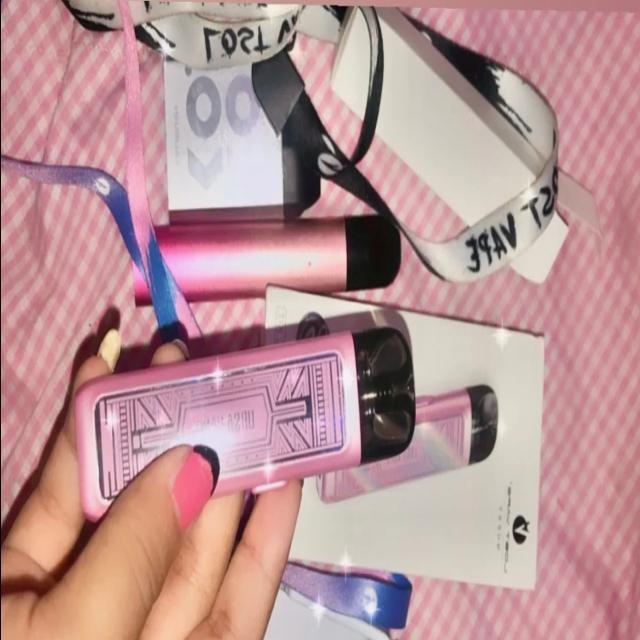Hazard: (76, 328, 414, 522), (132, 227, 400, 304), (318, 386, 498, 500)
